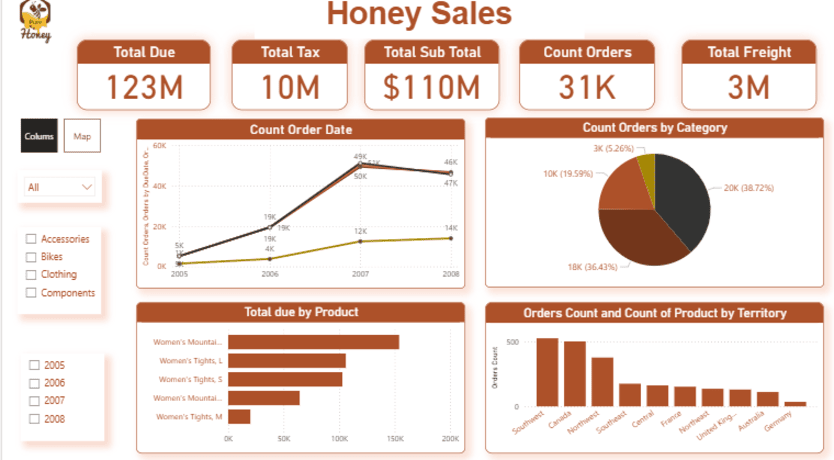

The dashboard page shown, as its layout file describes it:
{"tool":"powerbi","page":{"name":"Dashboard","canvas":[1280,720],"ordinal":0},"visuals":[{"type":"card","title":"Total Sub Total ","fields":{"Values":["Measures (2).Total Sub Total"]},"box":[554.3,72.2,206.6,107.5],"z":0},{"type":"card","title":"Count Orders","fields":{"Values":["Measures (2).Count Orders"]},"box":[791.2,72.2,208.3,107.5],"z":1000},{"type":"card","title":"Total Freight","fields":{"Values":["Measures (2).Total Freight"]},"box":[1039.8,72.2,206.6,107.5],"z":2000},{"type":"card","title":"Total Due","fields":{"Values":["Measures (2).Total  due"]},"box":[114.2,72.2,204.9,107.5],"z":3000},{"type":"card","title":"Total Tax","fields":{"Values":["Measures (2).Total Tax"]},"box":[351.1,72.2,178.1,107.5],"z":4000},{"type":"lineChart","title":"Count Order Date","fields":{"Category":["DimDate.Date Hierarchy.Year","DimDate.Date Hierarchy.Month Number","DimDate.Date Hierarchy.Month Name","DimDate.Date Hierarchy.Day Name","DimDate.Date Hierarchy.Day","DimDate.Date Hierarchy.Quarter Name"],"Y":["Measures (2).Count Orders","Measures (2).Orders by DueDate","Measures (2).Orders by ShipDate","Measures (2).Orders by orderDate"]},"box":[204.9,193.2,503.9,260.4],"z":5000},{"type":"pieChart","fields":{"Y":["Measures (2).Count Orders"],"Category":["vw_DimProducts.Category"]},"box":[739.1,191.5,519.1,260.4],"z":6000},{"type":"clusteredBarChart","fields":{"Y":["Measures (2).Total  due"],"Category":["vw_DimProducts.Product"]},"box":[204.9,473.7,503.9,231.8],"z":7000},{"type":"clusteredColumnChart","fields":{"Category":["vw_DimTerritories.Territory"],"Y":["Measures (2).Orders Count"]},"box":[739.1,473.7,519.1,231.8],"z":8000},{"type":"slicer","fields":{"Values":["vw_DimProducts.Category"]},"box":[23.5,359.5,127.7,132.7],"z":9000},{"type":"slicer","fields":{"Values":["DimDate.Year"]},"box":[28.6,552.7,127.7,134.4],"z":10000},{"type":"bookmarkNavigator","box":[28.6,193.2,122.6,52.1],"z":12000},{"type":"slicer","fields":{"Values":["vw_DimTerritories.Territory"]},"box":[23.5,272.1,129.3,50.4],"z":13000},{"type":"image","box":[0,0,101.2,83.3],"z":14000},{"type":"textbox","box":[387,0,504.6,71.4],"z":15000}]}

Visuals, with their boxes in screenshot pixels (x1, y1, x2, y2), scaled from the page's 1280x720 canvas onto the 834x460 screenshot:
"Total Sub Total " card: l=361, t=46, r=496, b=115
"Count Orders" card: l=516, t=46, r=651, b=115
"Total Freight" card: l=677, t=46, r=812, b=115
"Total Due" card: l=74, t=46, r=208, b=115
"Total Tax" card: l=229, t=46, r=345, b=115
"Count Order Date" lineChart: l=134, t=123, r=462, b=290
pieChart - Measures (2).Count Orders x vw_DimProducts.Category: l=482, t=122, r=820, b=289
clusteredBarChart - Measures (2).Total  due x vw_DimProducts.Product: l=134, t=303, r=462, b=451
clusteredColumnChart - vw_DimTerritories.Territory x Measures (2).Orders Count: l=482, t=303, r=820, b=451
slicer - vw_DimProducts.Category: l=15, t=230, r=99, b=314
slicer - DimDate.Year: l=19, t=353, r=102, b=439
bookmarkNavigator: l=19, t=123, r=99, b=157
slicer - vw_DimTerritories.Territory: l=15, t=174, r=100, b=206
image: l=0, t=0, r=66, b=53
textbox: l=252, t=0, r=581, b=46
